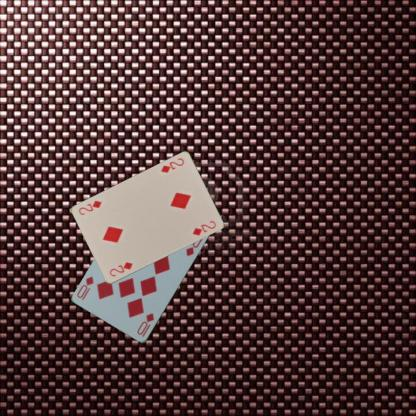10d: (134, 311, 155, 338)
2d: (107, 259, 134, 278), (158, 156, 186, 174)
